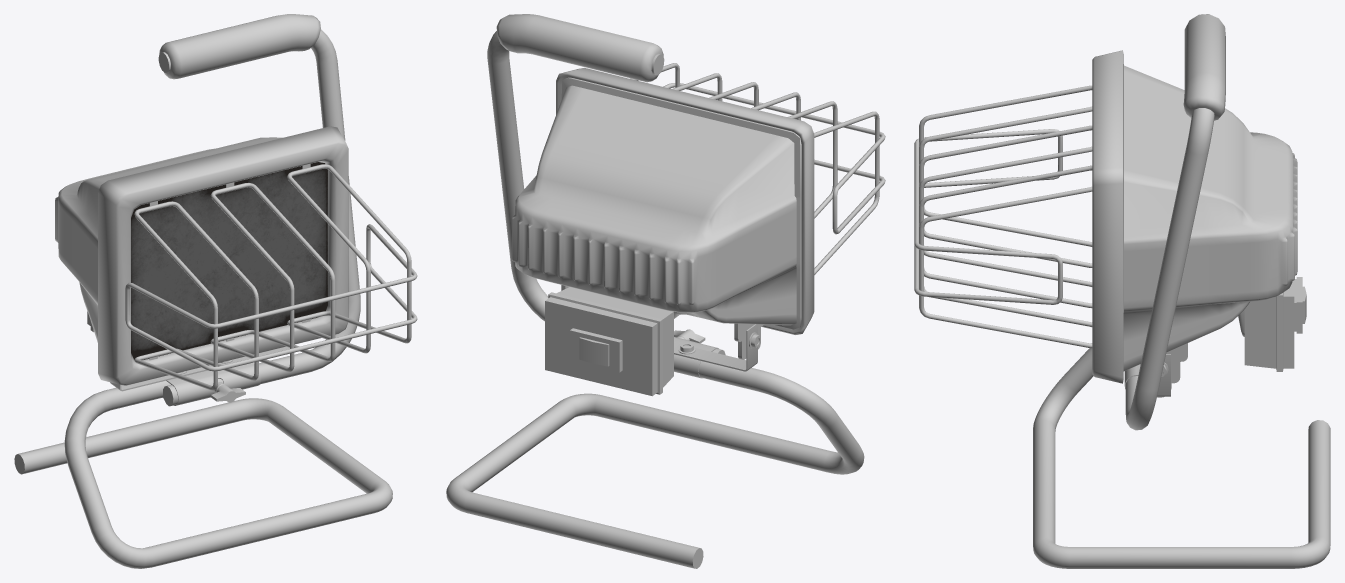
The model's file is Worklight.fbx.
3 renders of one model, left to right at view 1: azimuth 30°, elevation 25°; view 2: azimuth 150°, elevation 25°; view 3: azimuth 270°, elevation 25°, orthographic. The views are drawn at different scales.
Parts seen in each view (by area): view 1: WorkLight_Body, WorkLight_Foot, WorkLight_Handle; view 2: WorkLight_Body, WorkLight_Foot, WorkLight_Handle; view 3: WorkLight_Body, WorkLight_Foot, WorkLight_Handle.
Part boxes in pixels (x1=…): WorkLight_Body: x1=55, y1=126, x2=417, y2=405; WorkLight_Foot: x1=14, y1=381, x2=392, y2=568; WorkLight_Handle: x1=158, y1=14, x2=360, y2=406; WorkLight_Body: x1=512, y1=63, x2=885, y2=396; WorkLight_Foot: x1=446, y1=361, x2=864, y2=568; WorkLight_Handle: x1=487, y1=14, x2=725, y2=355; WorkLight_Body: x1=914, y1=50, x2=1306, y2=396; WorkLight_Foot: x1=1033, y1=348, x2=1330, y2=568; WorkLight_Handle: x1=1125, y1=14, x2=1225, y2=430.
Bounding box in the file's own units: 23.93 × 33.65 × 26.55.
